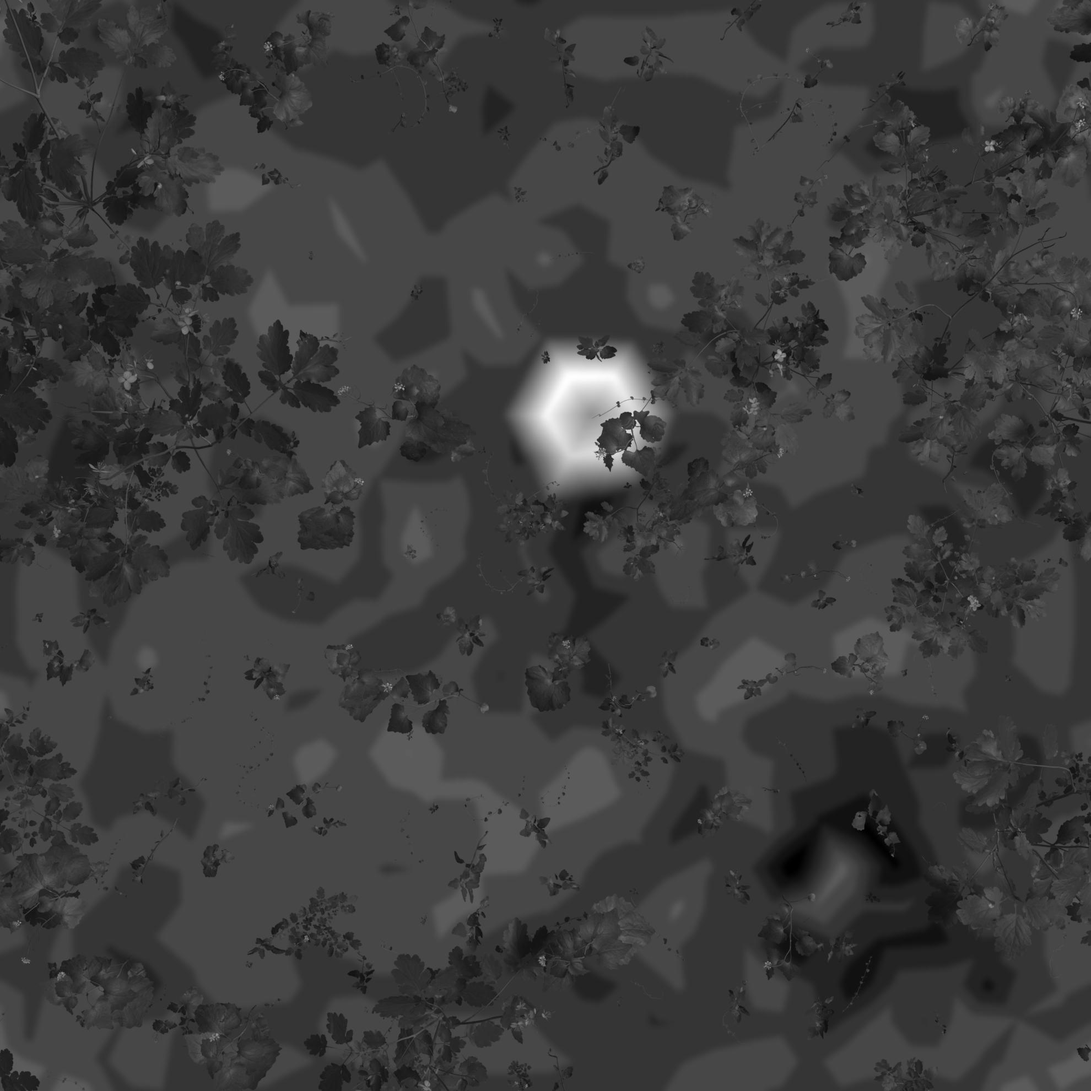landmine: (755, 793, 941, 992), (511, 333, 680, 494)
